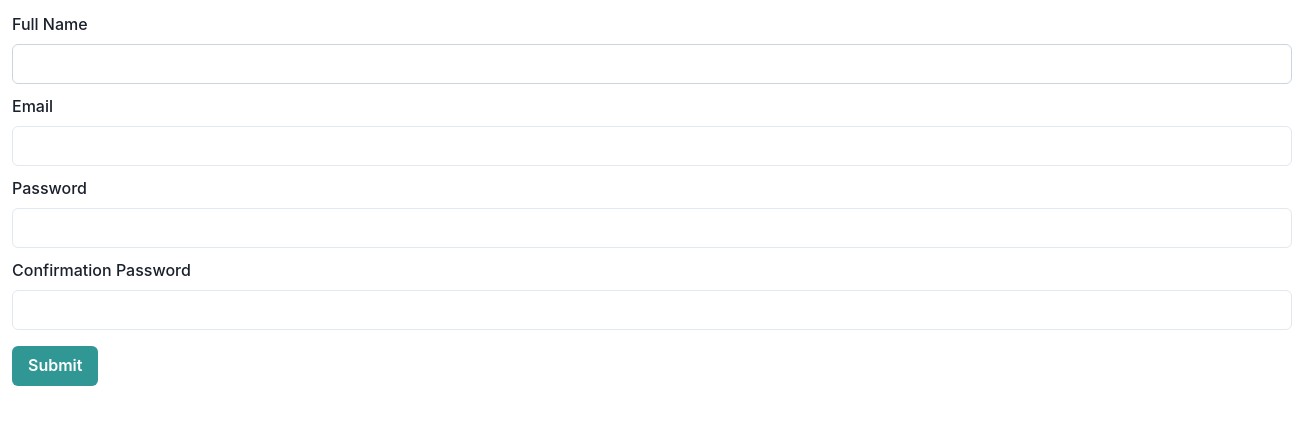
Scenario: SignUpForm › should display email error message if incorrect email is provided
The image size is (1304, 428).
Type "asdf" into the 2nd field.
click(652, 146); type("asdf")  # box [12, 126, 1292, 166]
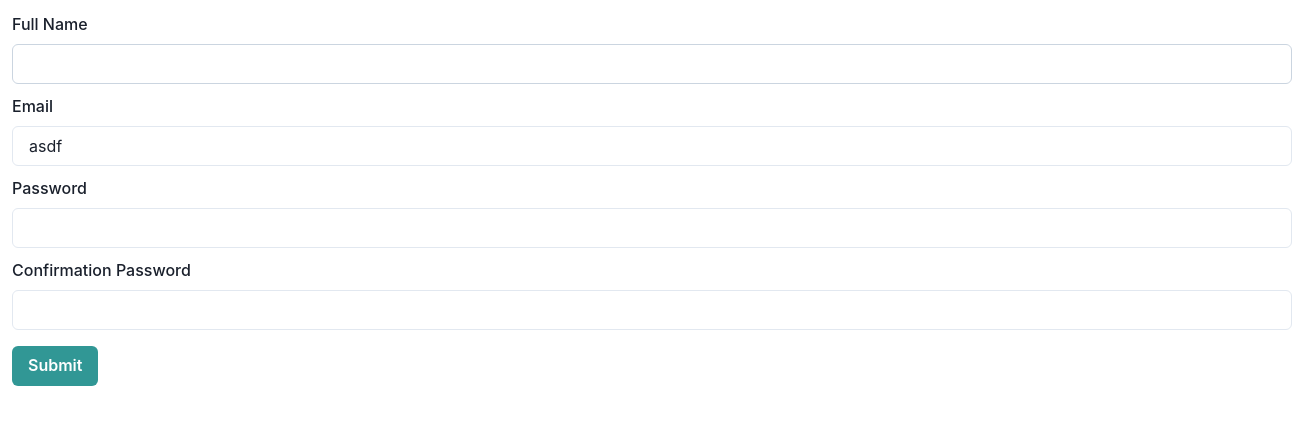
Leave the 2nd field, box [12, 126, 1292, 166]
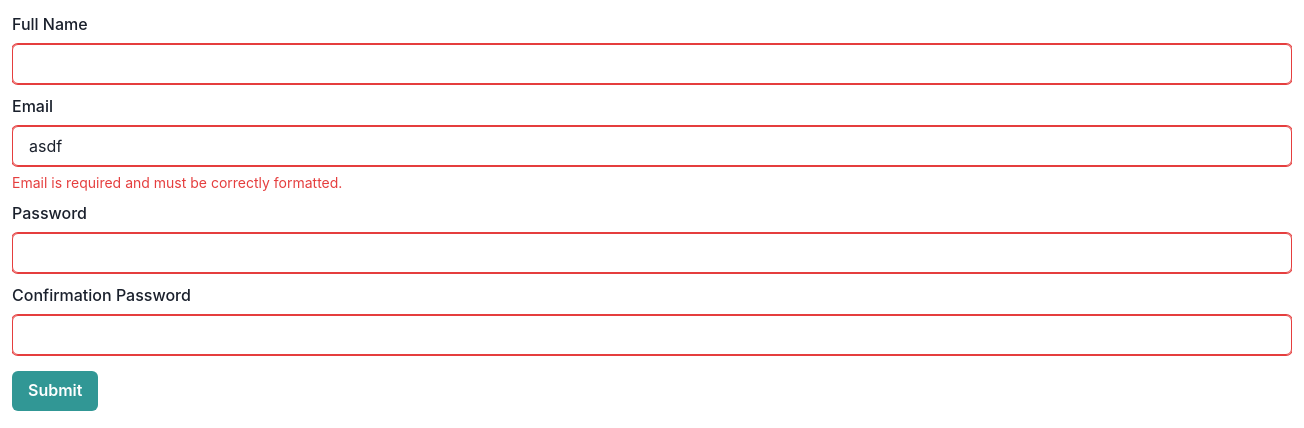
expect the text "Email is required and must be correctly formatted." is shown: met, box [12, 174, 342, 191]
